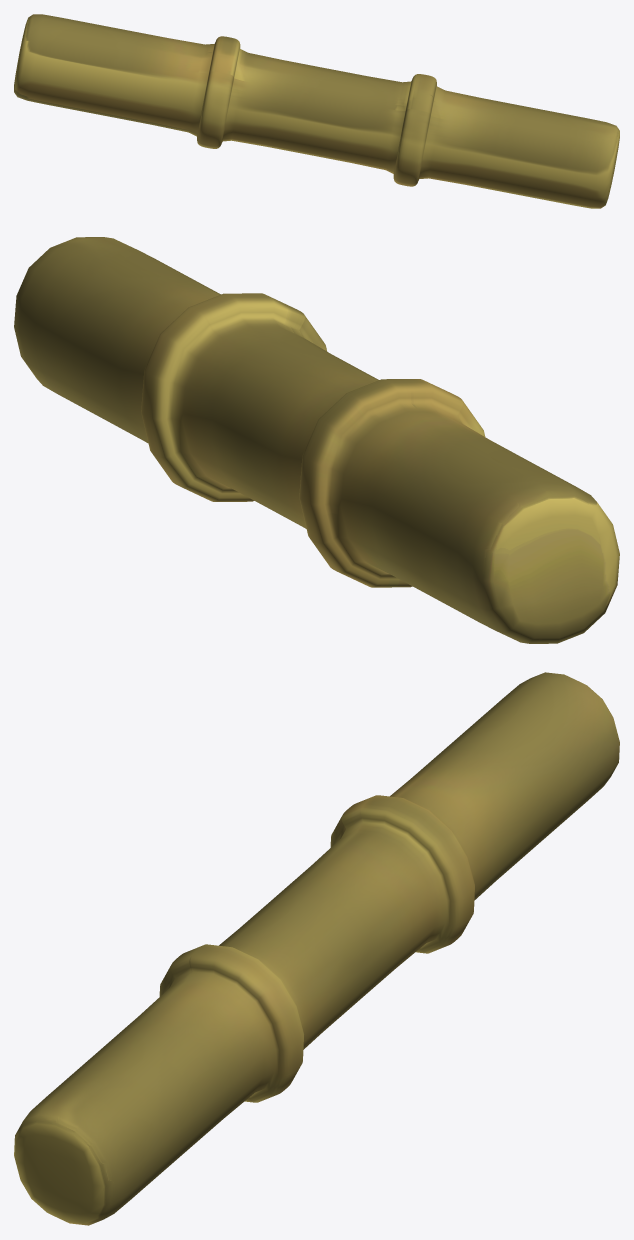
The model's file is BambooStick.fbx.
3 views of the same model, one above another, from view 1: azimuth 30°, elevation 25°; view 2: azimuth 150°, elevation 25°; view 3: azimuth 270°, elevation 25° (orthographic). The views are drawn at different scales.
Parts seen in each view (by area): view 1: BambooStick; view 2: BambooStick; view 3: BambooStick.
Part boxes in pixels (<box>): BambooStick: <box>14,14,619,208</box>; BambooStick: <box>14,237,619,643</box>; BambooStick: <box>14,672,619,1225</box>.
Size of the model in its own units: 10.71 by 3.7 by 8.12.
1 material, 1 textured.
